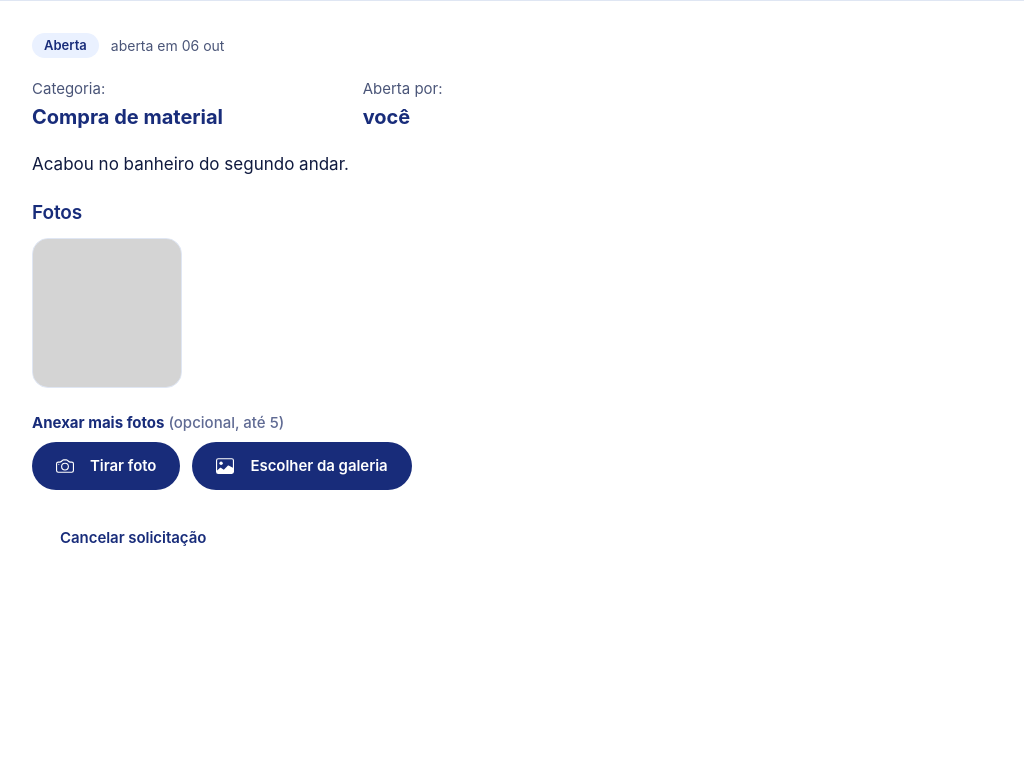
Test case: detalhe da solicitacao › autor cancela pela API e a lista e avisada
The width and height of the screenshot is (1024, 768).
Step 1. Click the button "Cancelar solicitação" → (133,538), box [32,514,234,562]
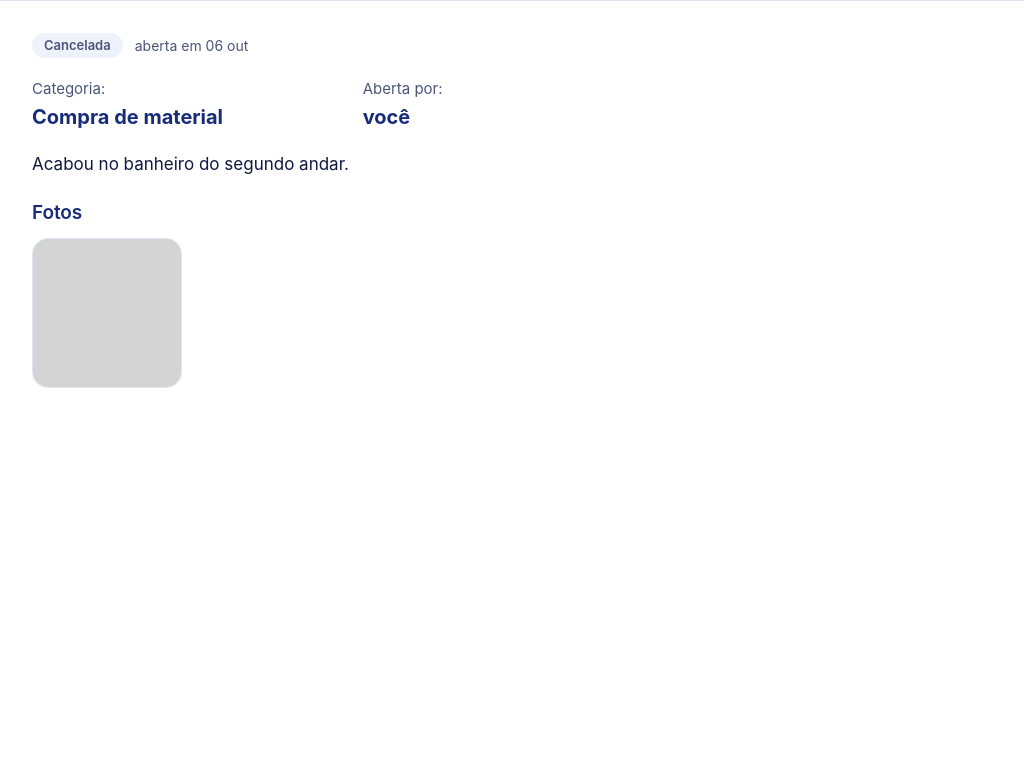
Check: the text "Cancelada" is shown, box [32,33,123,58]
